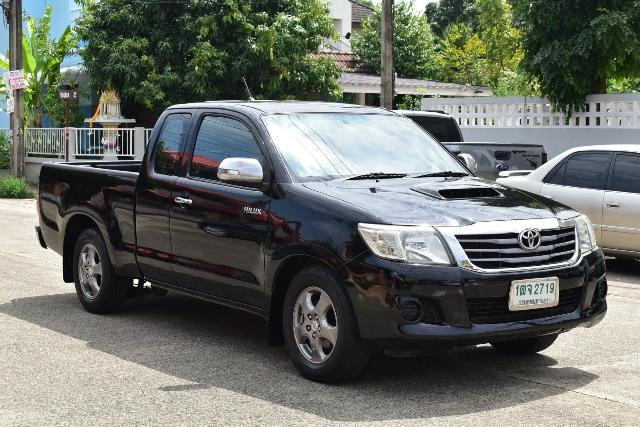pickup-truck: (21, 81, 617, 388)
